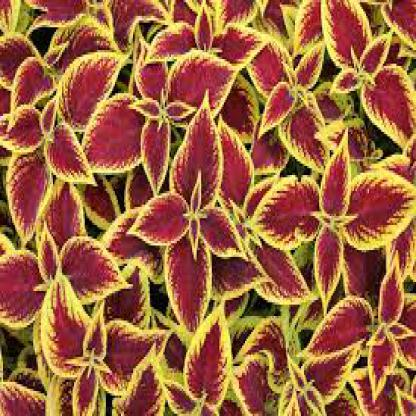Bunga Coleus: (7, 15, 400, 390)
